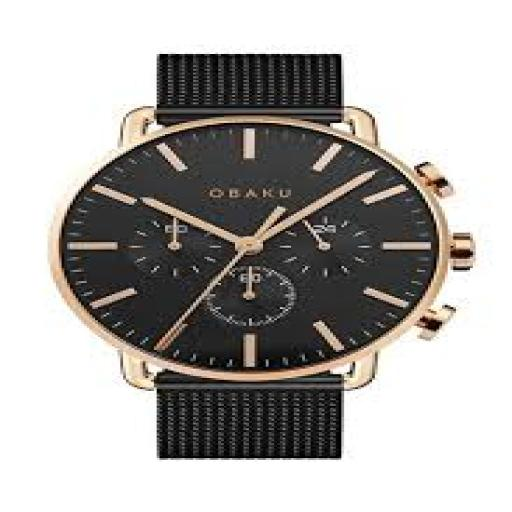KolSaati: (44, 45, 507, 499)
